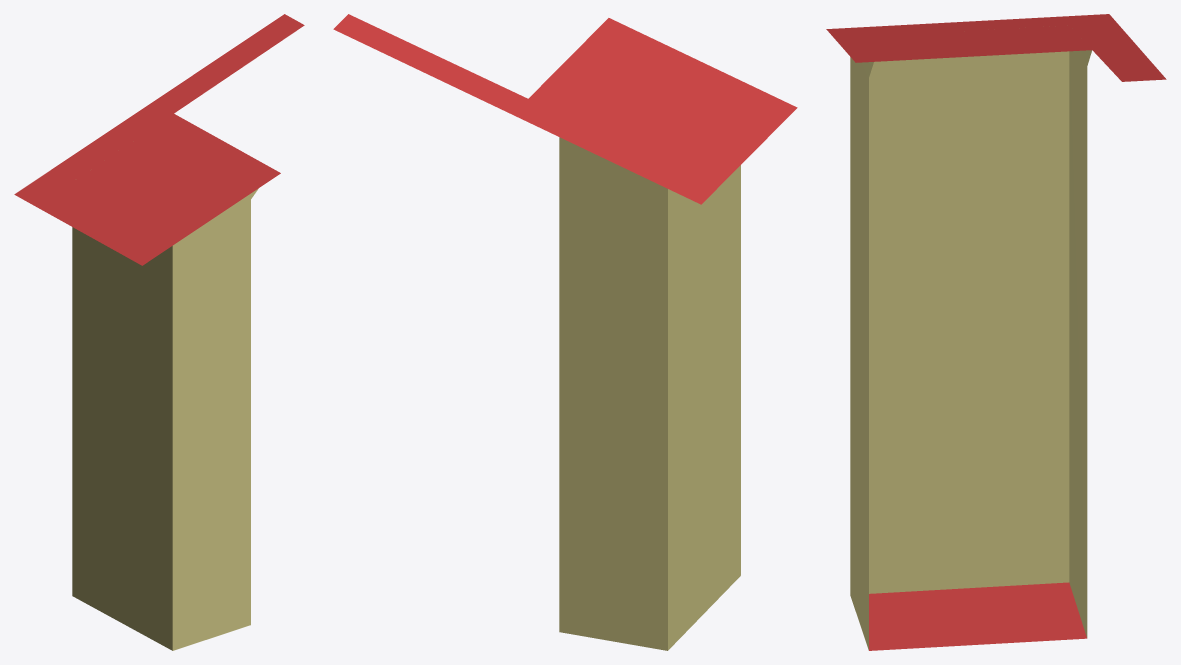
The picture shows the model from 3 angles, left to right: view 1: azimuth 30°, elevation 25°; view 2: azimuth 150°, elevation 25°; view 3: azimuth 270°, elevation 25°; orthographic projection. The views are drawn at different scales.
Bounding box in the file's own units: 6.93 × 5.14 × 11.1.
